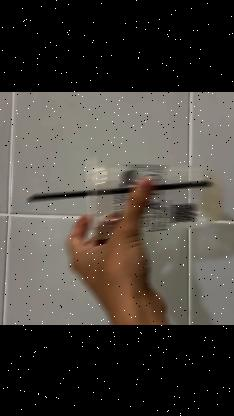Others: (68, 155, 220, 243)
